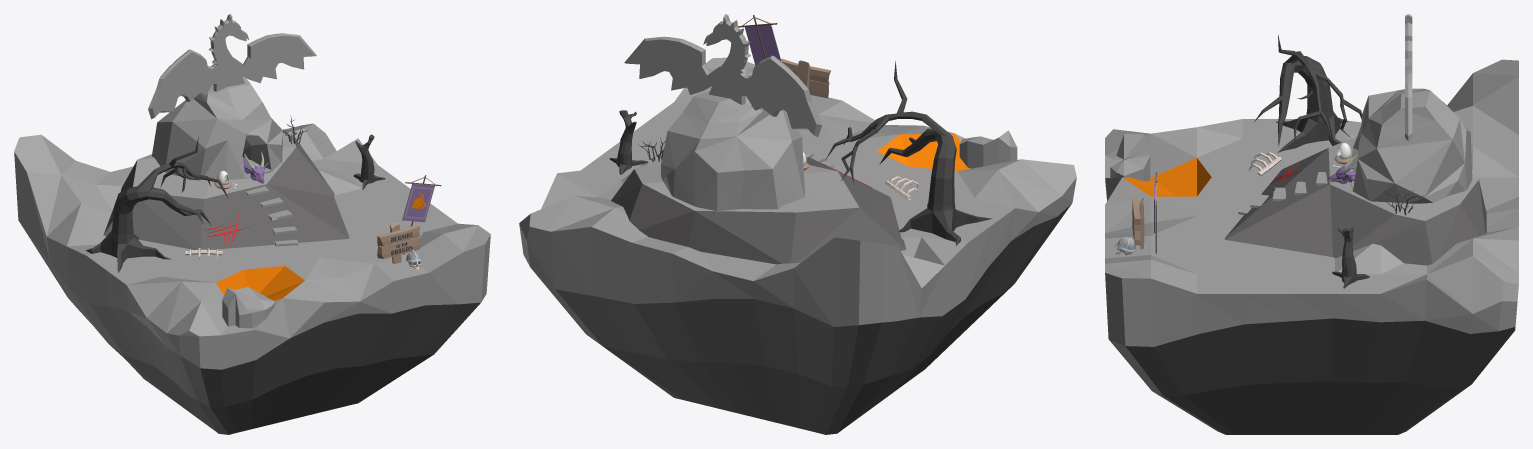
Rendered from Island_4.fbx.
3 views of the same model, side by side, from view 1: azimuth 30°, elevation 25°; view 2: azimuth 150°, elevation 25°; view 3: azimuth 270°, elevation 25° (orthographic). The views are drawn at different scales.
Parts seen in each view (by area): view 1: Isl_4_Base, Isl_4_Cave, Isl_4_Hill, Isl_4_Tree_2, Isl_4_Sign, Isl_4_Flag_1, Isl_4_Tree_1; view 2: Isl_4_Base, Isl_4_Cave, Isl_4_Hill, Isl_4_Tree_2, Isl_4_Flag_1, Isl_4_Sign, Isl_4_Tree_1; view 3: Isl_4_Base, Isl_4_Hill, Isl_4_Cave, Isl_4_Tree_2, Isl_4_Tree_1, Isl_4_Sign, Isl_4_Dragon_Head.
Boxes of the visible parts, box(x1,y1,x2,y2) form: Isl_4_Base: box(14, 123, 490, 434); Isl_4_Cave: box(148, 14, 316, 180); Isl_4_Hill: box(103, 133, 349, 249); Isl_4_Tree_2: box(86, 136, 228, 272); Isl_4_Sign: box(377, 223, 419, 263); Isl_4_Flag_1: box(402, 175, 441, 254); Isl_4_Tree_1: box(353, 134, 385, 189); Isl_4_Base: box(519, 57, 1076, 434); Isl_4_Cave: box(624, 14, 821, 210); Isl_4_Hill: box(611, 149, 906, 264); Isl_4_Tree_2: box(826, 61, 991, 245); Isl_4_Flag_1: box(738, 15, 781, 65); Isl_4_Sign: box(781, 58, 830, 98); Isl_4_Tree_1: box(609, 110, 648, 174); Isl_4_Base: box(1105, 59, 1518, 434); Isl_4_Hill: box(1225, 136, 1486, 265); Isl_4_Cave: box(1351, 14, 1472, 203); Isl_4_Tree_2: box(1253, 34, 1361, 152); Isl_4_Tree_1: box(1332, 227, 1369, 288); Isl_4_Sign: box(1132, 197, 1144, 249); Isl_4_Dragon_Head: box(1328, 155, 1357, 184).
Size of the model in its own units: 2000 by 2000 by 2085.
